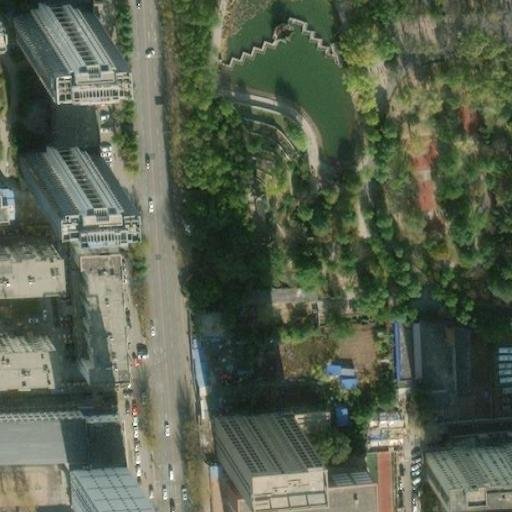building: (221, 467, 364, 512), (200, 409, 280, 450), (423, 444, 512, 475), (60, 465, 123, 508), (17, 145, 92, 180), (364, 446, 395, 512), (0, 240, 48, 281), (239, 282, 316, 306), (74, 420, 113, 459), (0, 329, 35, 368), (323, 361, 358, 390), (332, 402, 351, 426)
